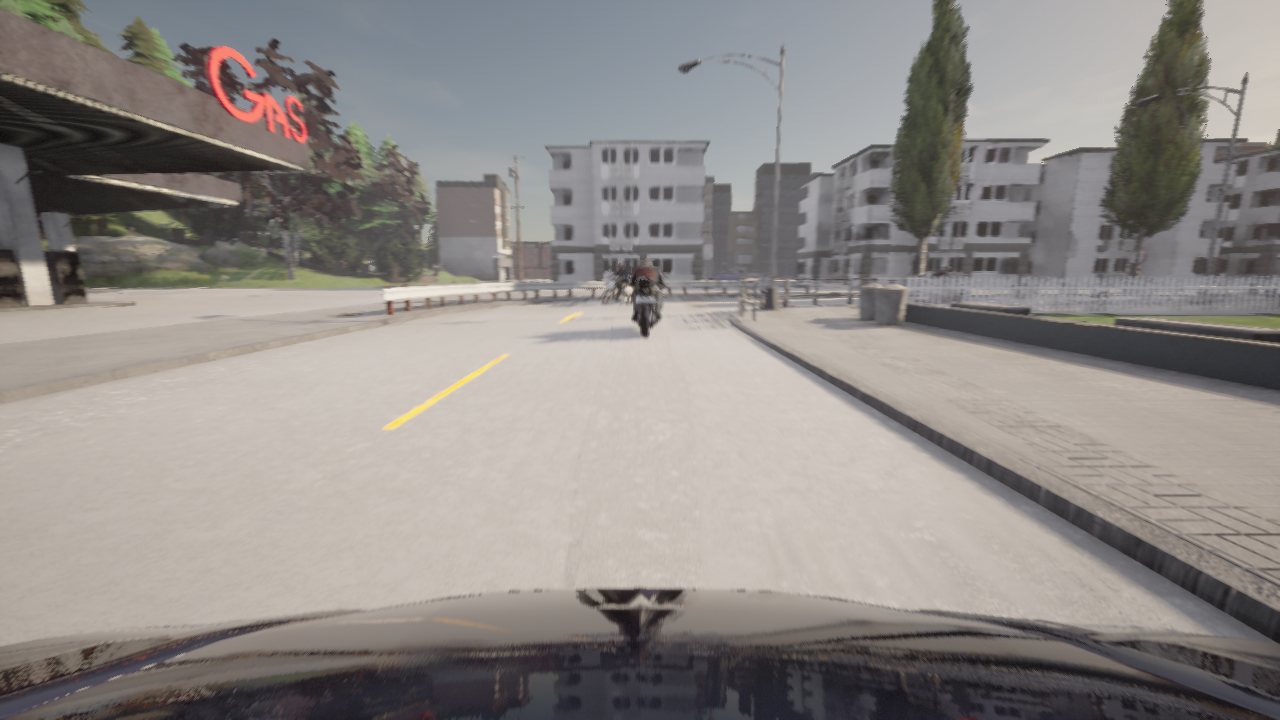cyclist: (0, 588, 1279, 719), (629, 273, 668, 337), (916, 273, 968, 302), (602, 271, 633, 305), (708, 269, 745, 280), (740, 271, 769, 280), (742, 277, 759, 278)
